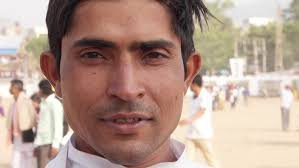noMask: (33, 1, 203, 156)
